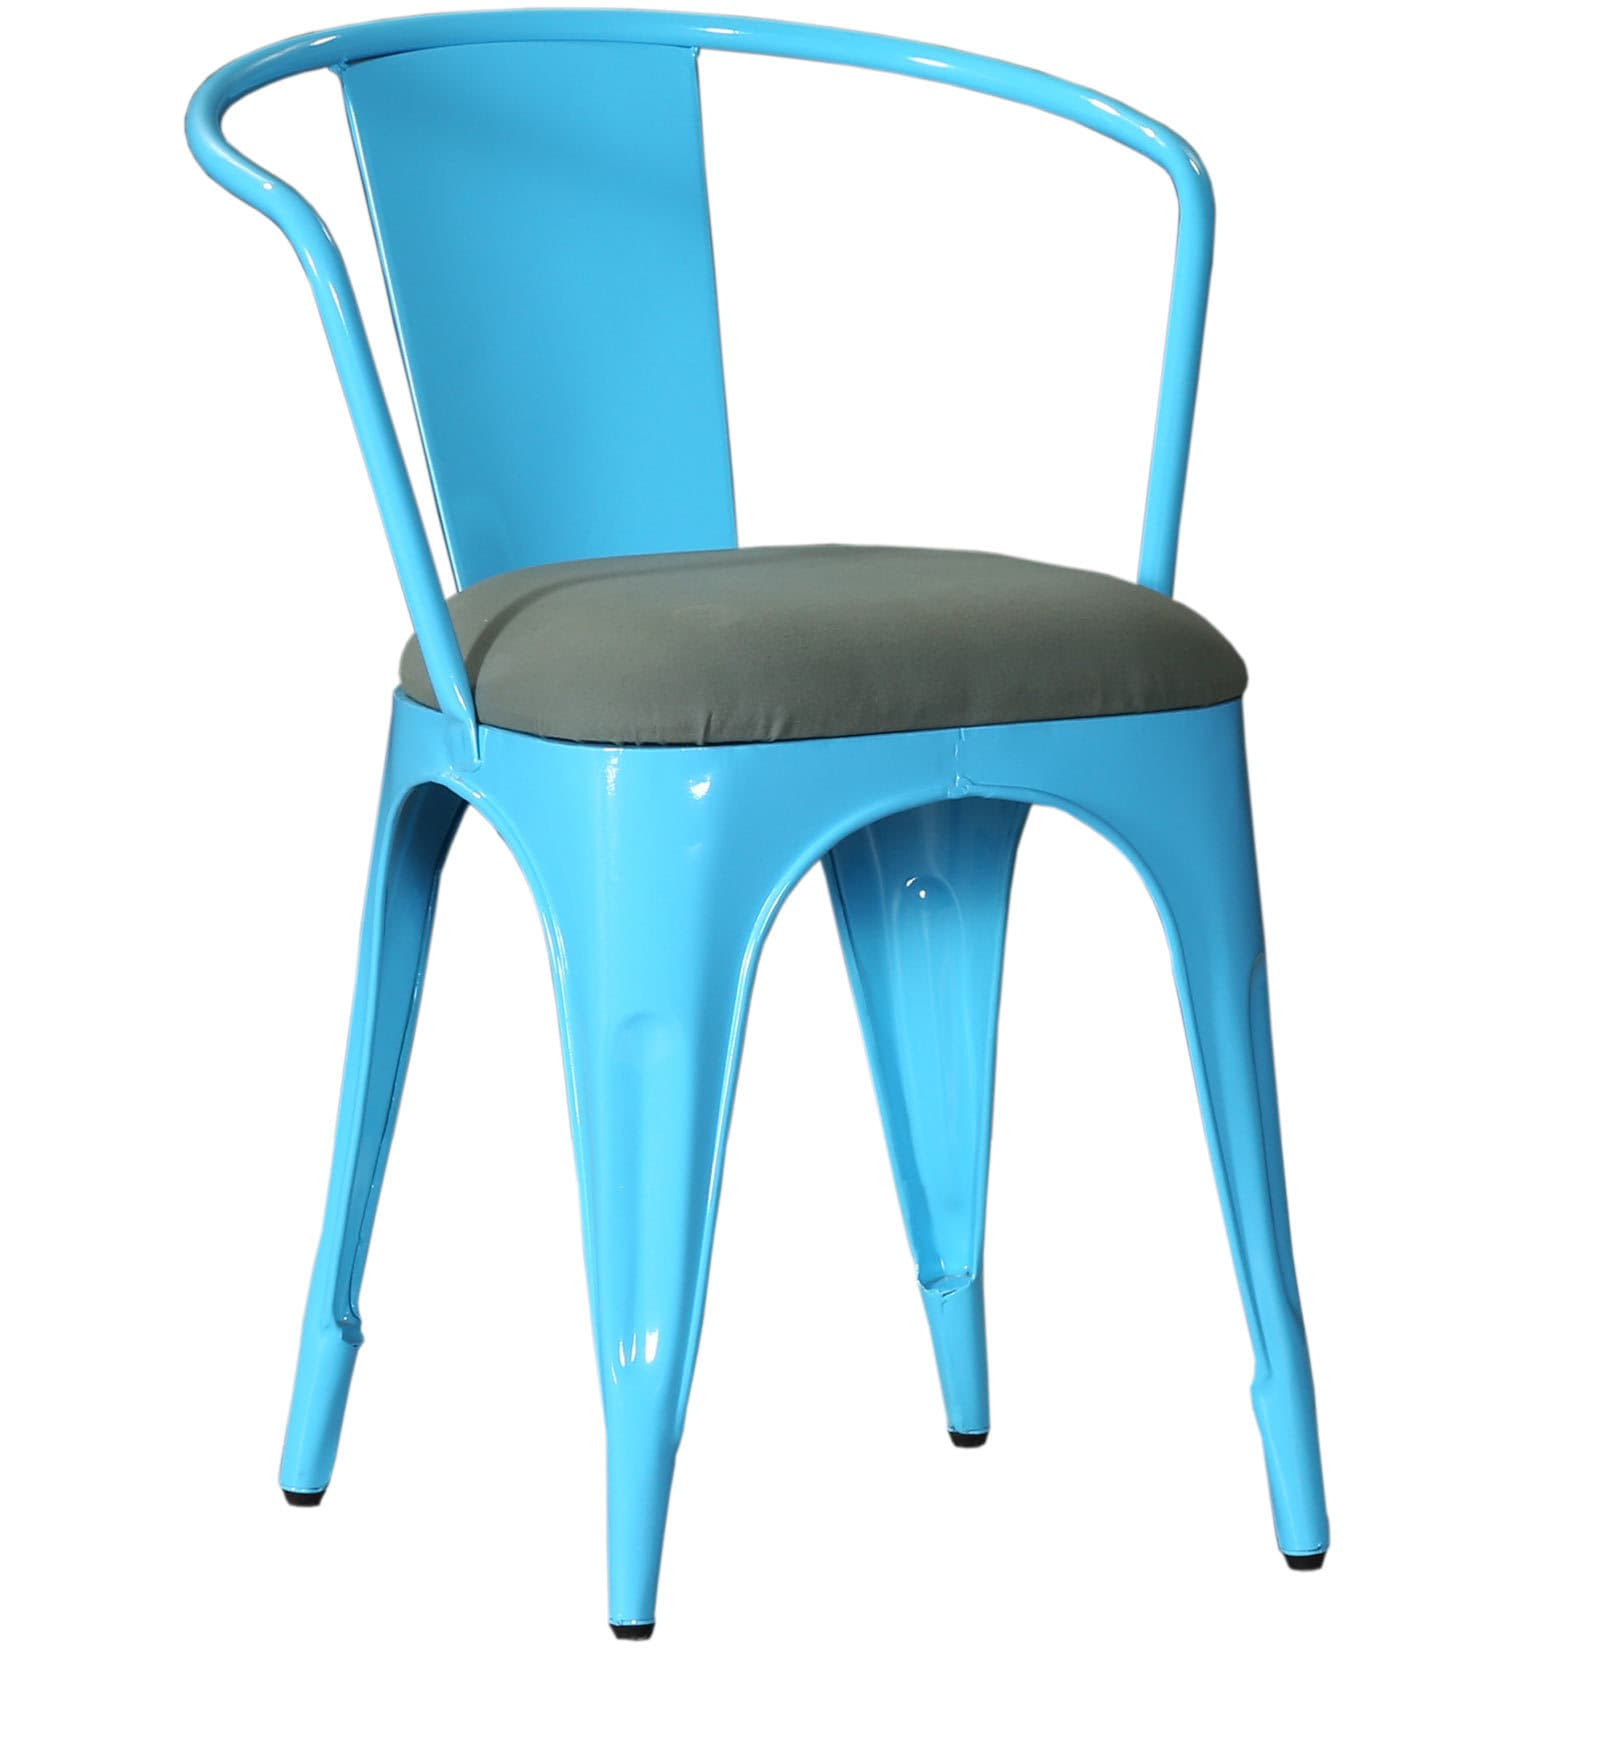Danlou Metal Chair with Cushion in Blue Colour by Bohemiana: (109, 12, 1401, 1642)
